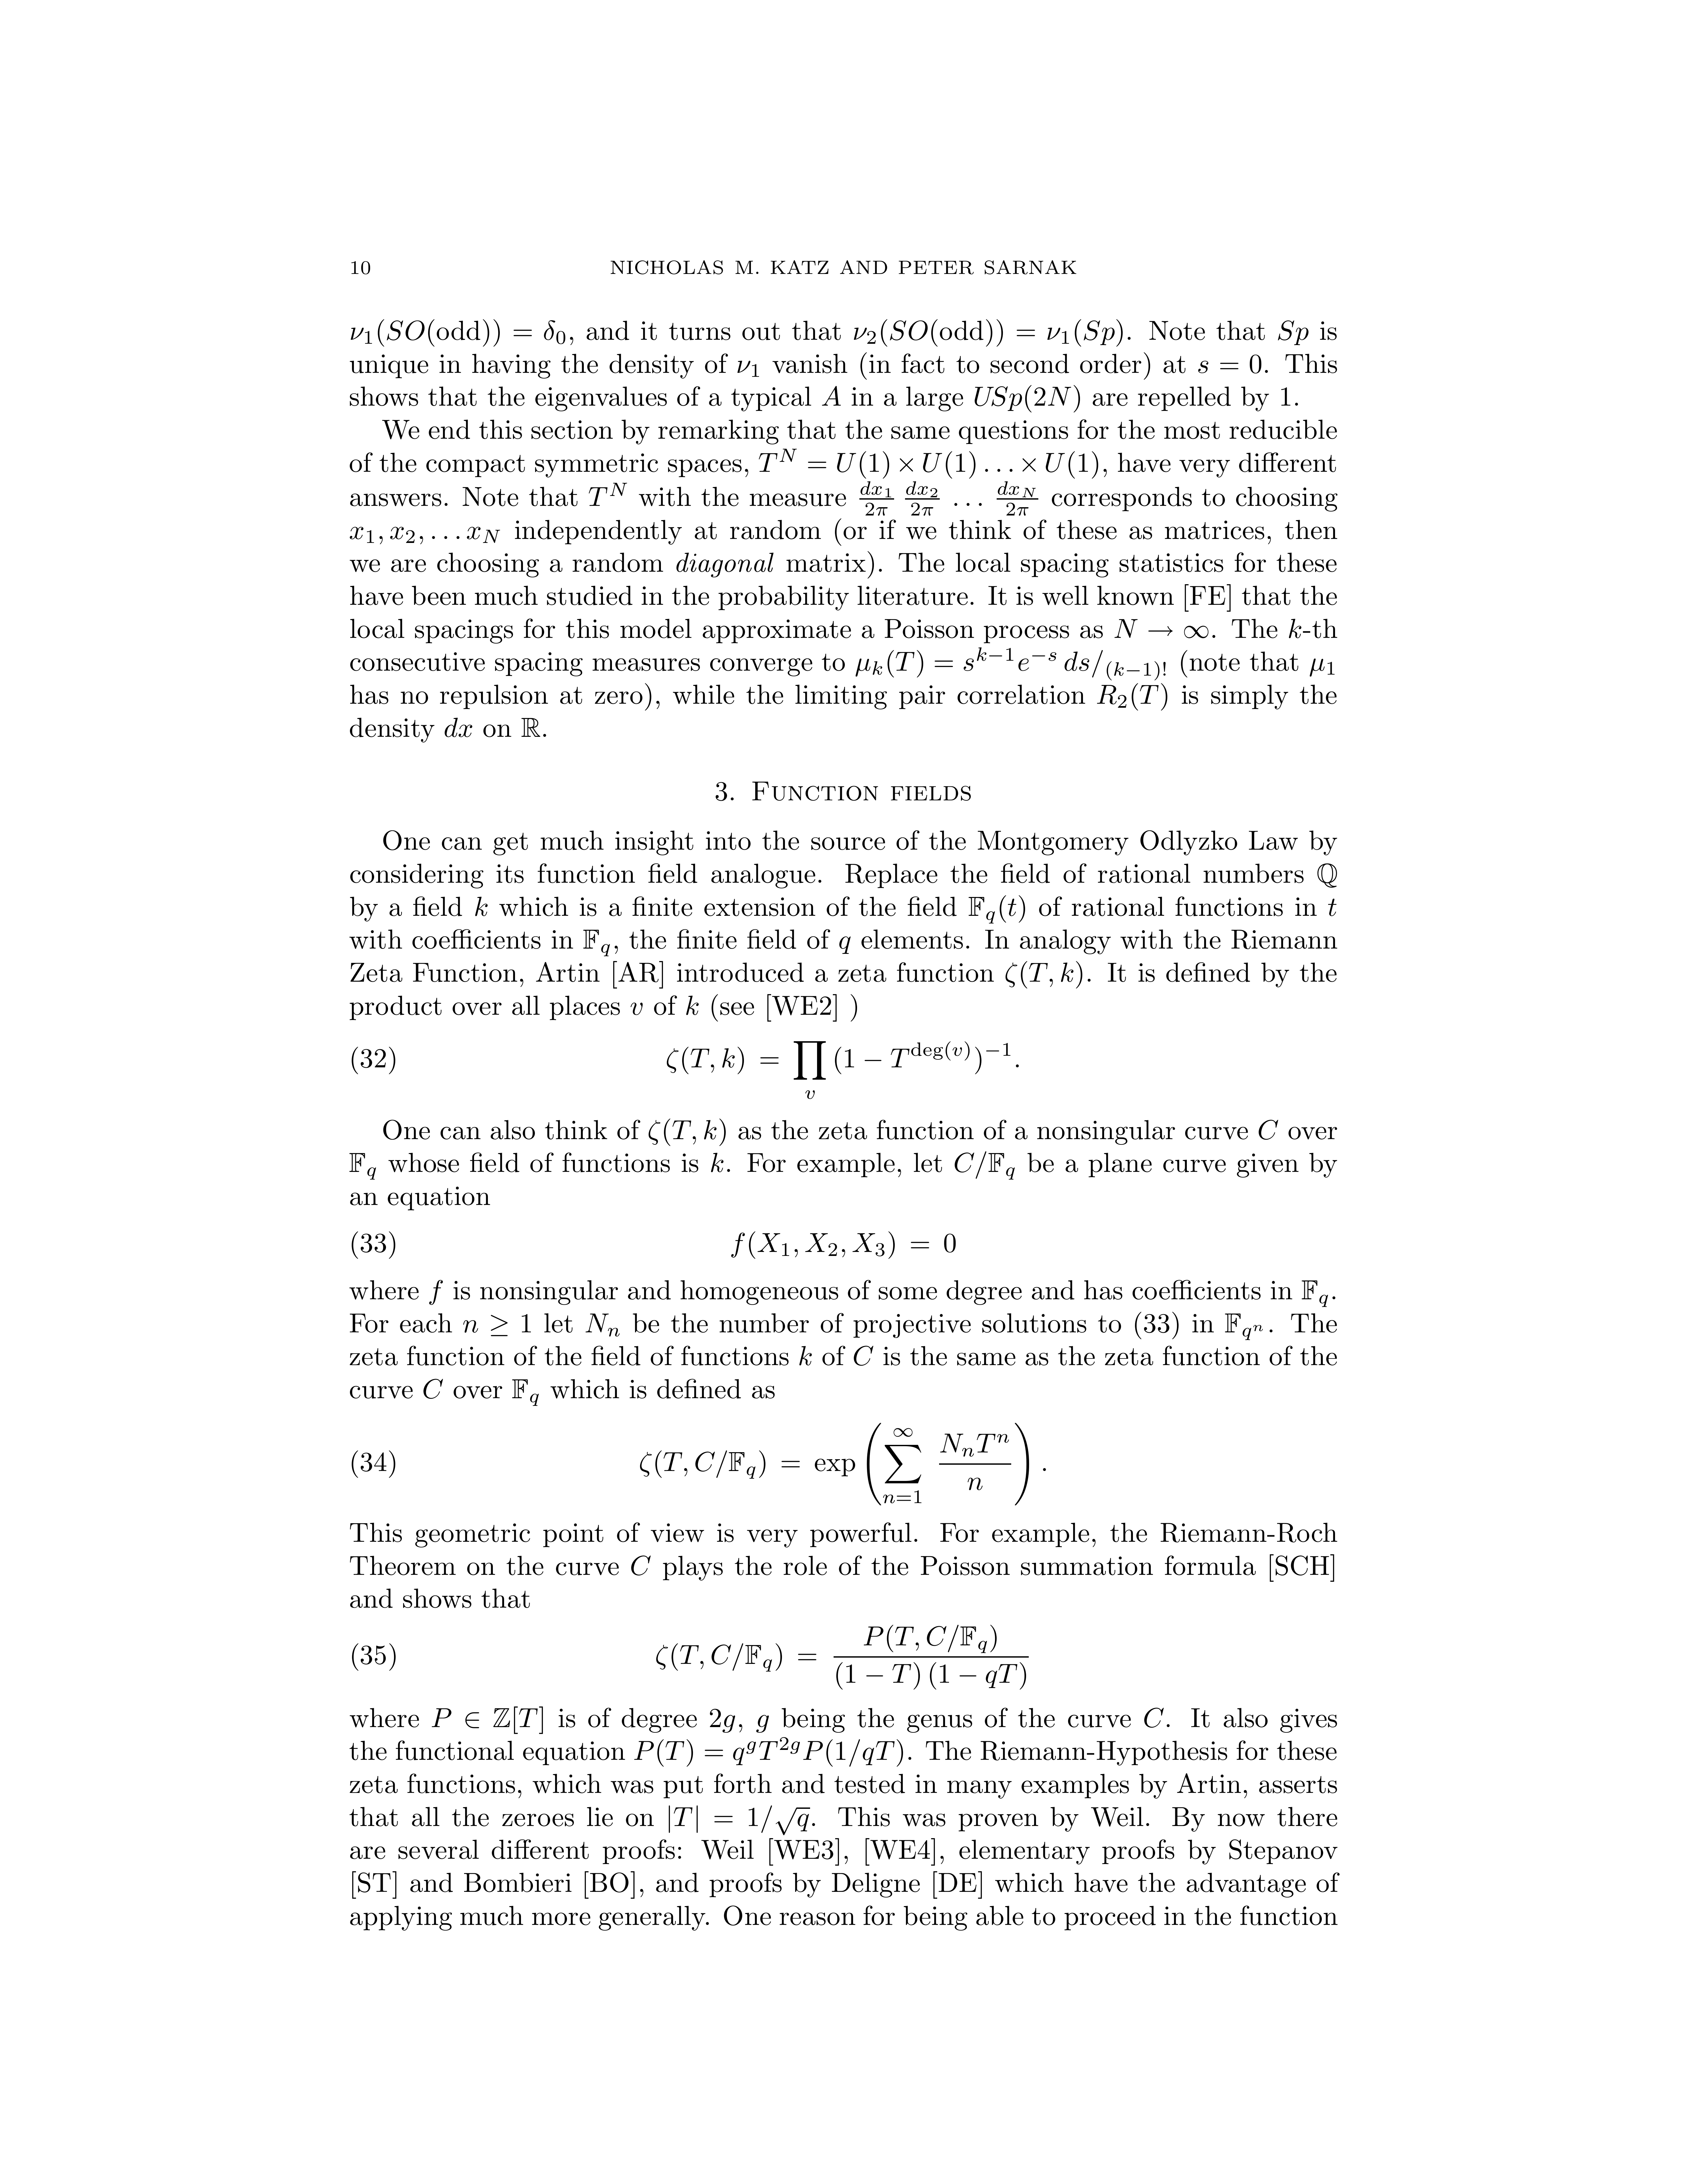maths: (640, 1423, 1046, 1505), (656, 1626, 1028, 1689), (666, 1041, 1010, 1099), (856, 647, 1166, 681), (758, 448, 1099, 479), (634, 1737, 902, 1766), (854, 319, 1122, 346), (859, 482, 1038, 516), (732, 1232, 955, 1259), (351, 319, 565, 346), (668, 1805, 810, 1835), (975, 385, 1079, 413), (432, 1707, 542, 1734), (1005, 961, 1083, 987), (649, 1119, 725, 1145), (1097, 682, 1168, 711), (1115, 619, 1209, 638), (955, 1152, 1015, 1179), (969, 895, 1024, 924), (464, 1314, 530, 1335), (1198, 355, 1262, 374), (432, 527, 500, 542), (1224, 1314, 1263, 1340), (588, 482, 627, 505), (585, 1314, 618, 1337), (711, 1709, 742, 1732), (583, 929, 610, 955), (349, 1152, 376, 1179), (512, 1379, 539, 1406), (1278, 321, 1308, 344), (1302, 1280, 1327, 1307), (349, 527, 383, 544), (390, 527, 424, 544), (445, 718, 471, 737), (1317, 863, 1336, 888), (1310, 658, 1334, 675), (631, 1555, 650, 1576), (1258, 1120, 1278, 1140), (854, 1346, 874, 1365), (424, 1379, 443, 1399), (1145, 1707, 1164, 1727), (429, 1280, 443, 1305), (822, 386, 840, 406), (521, 718, 540, 736), (737, 360, 758, 376), (475, 897, 487, 916), (711, 1152, 723, 1172), (799, 1346, 812, 1365), (686, 996, 698, 1014), (757, 1714, 769, 1732), (840, 936, 851, 954), (1327, 899, 1336, 916), (631, 1003, 643, 1014)
